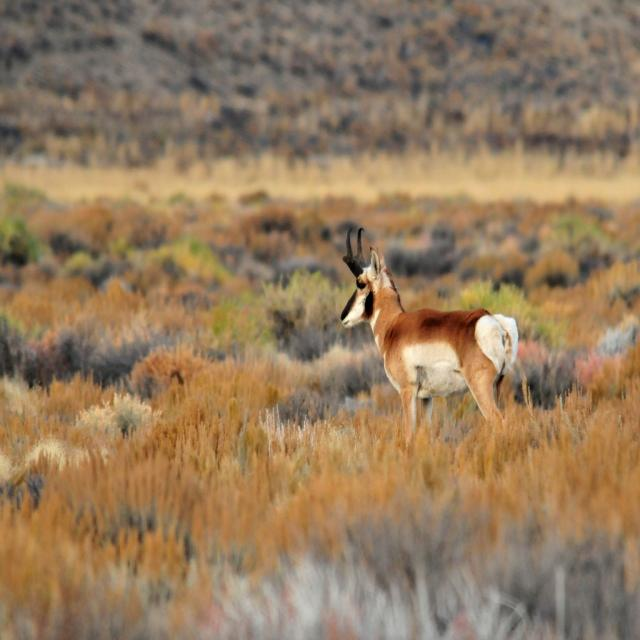Deer: (341, 224, 518, 428)
